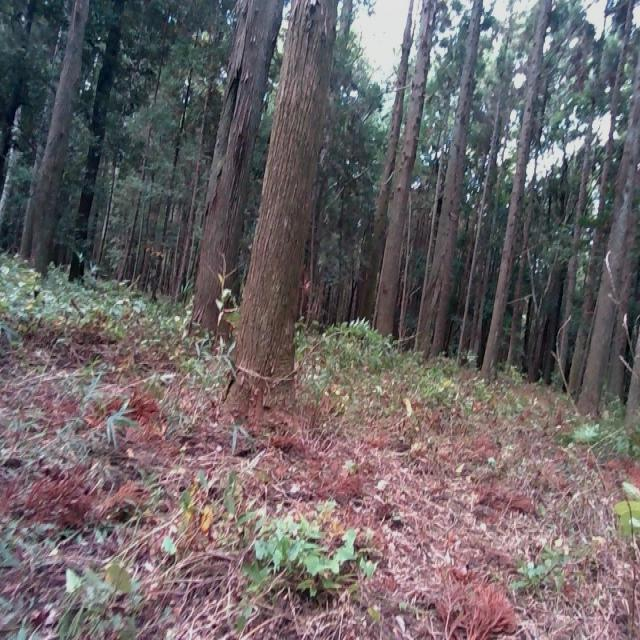bush: (308, 314, 425, 394)
tree: (231, 0, 348, 405), (196, 0, 278, 333), (414, 0, 481, 357), (22, 0, 91, 264), (579, 131, 640, 418)
